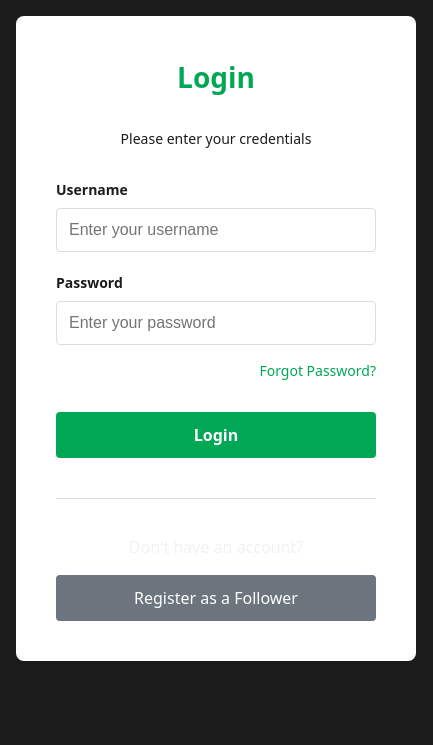
Login › should display error message on failed login
The image size is (433, 745).
Step 1. Type "wronguser" into the field labelled "Username" → (216, 230), box [56,208,376,252]
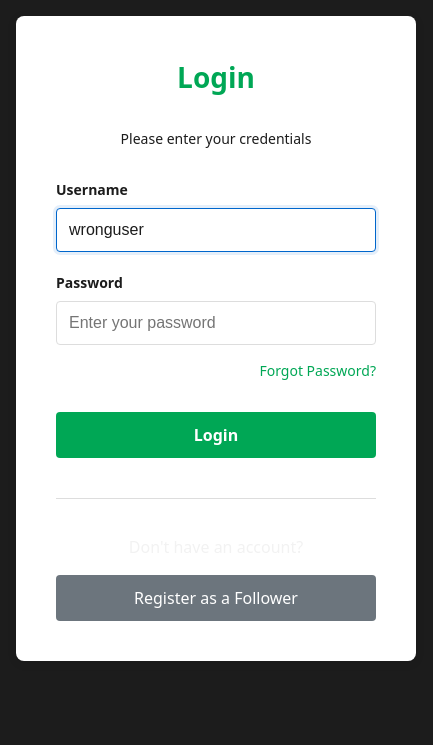
Step 2. Type "wrongpass" into the password field labelled "Password" → (216, 323), box [56,301,376,345]
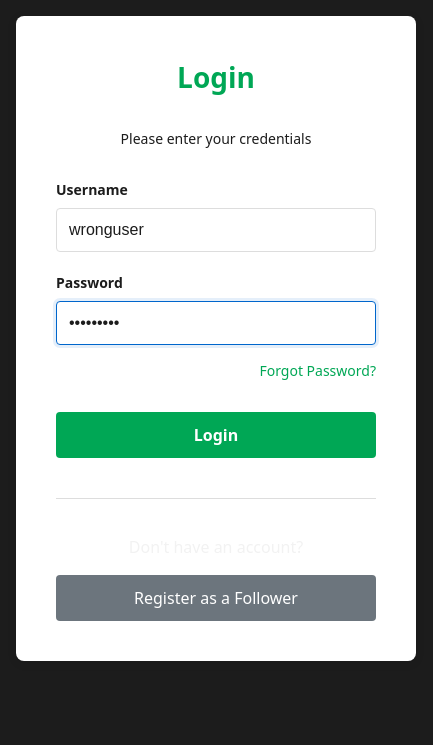
Step 3. Click the button "Login" → (216, 435), box [56,412,376,458]
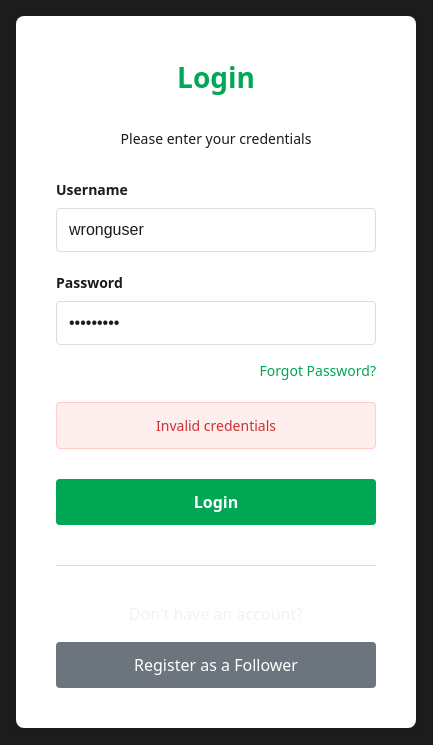
Now the text "Invalid credentials" is shown, box [56,402,376,449]
